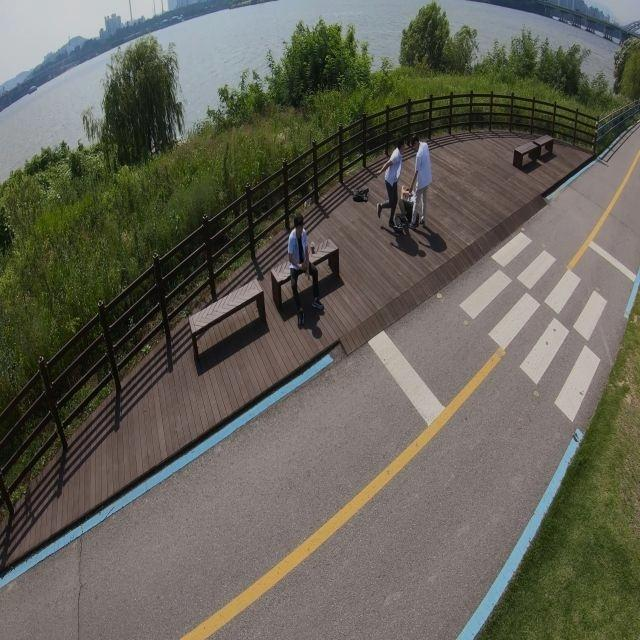fight: (377, 141, 430, 233)
non-fight: (286, 214, 321, 326)
